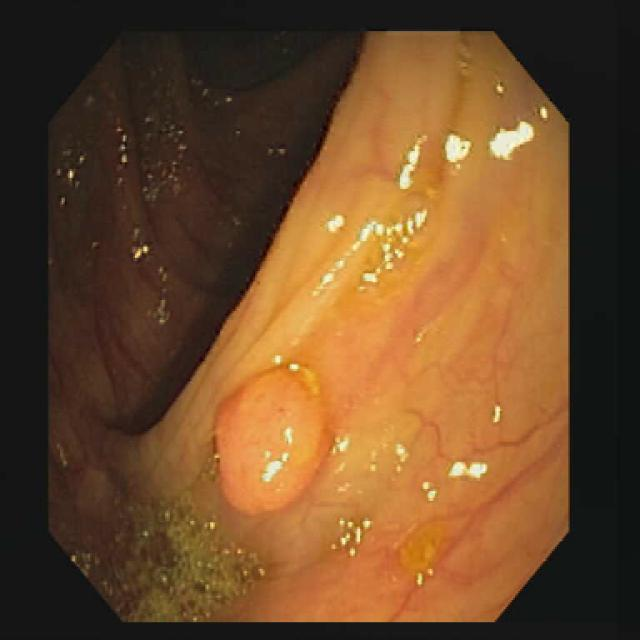tumor: (217, 364, 330, 513)
